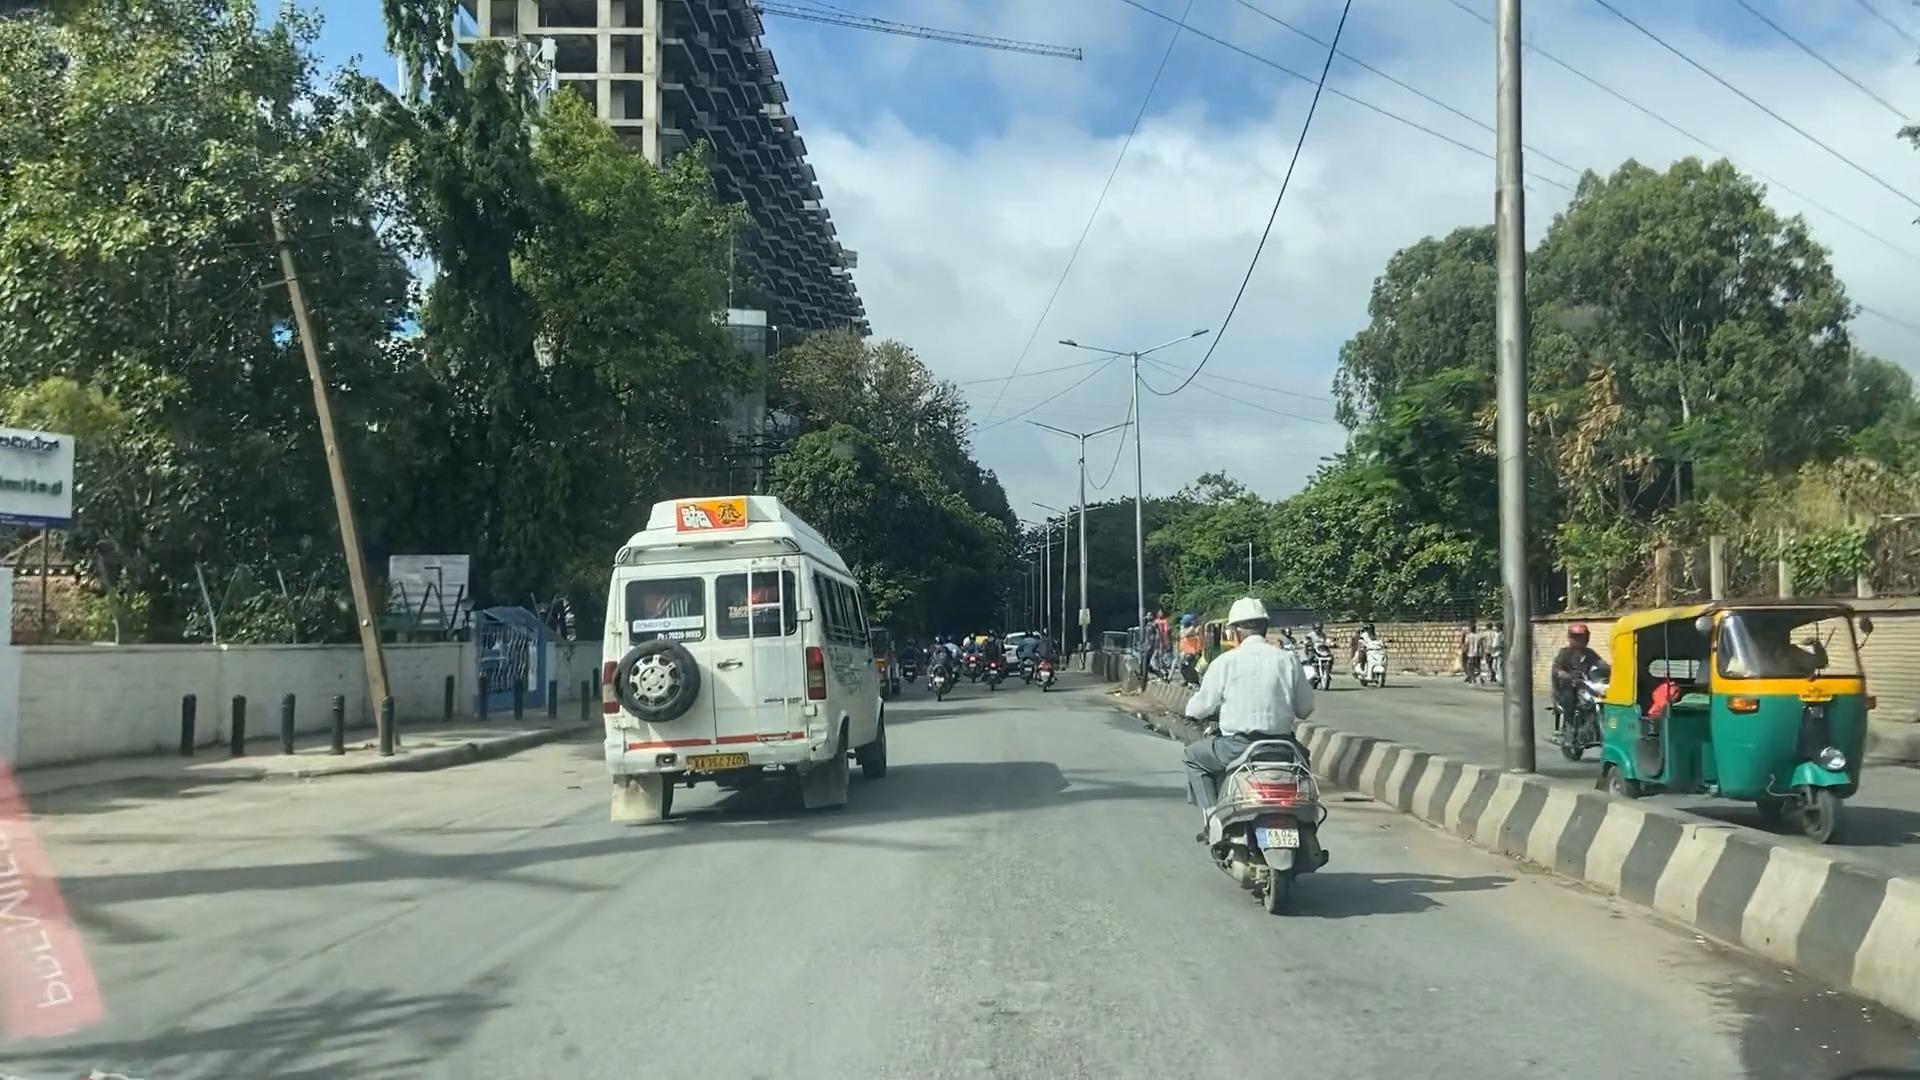HMV: (585, 498, 910, 847)
LMV: (1149, 603, 1336, 902)
